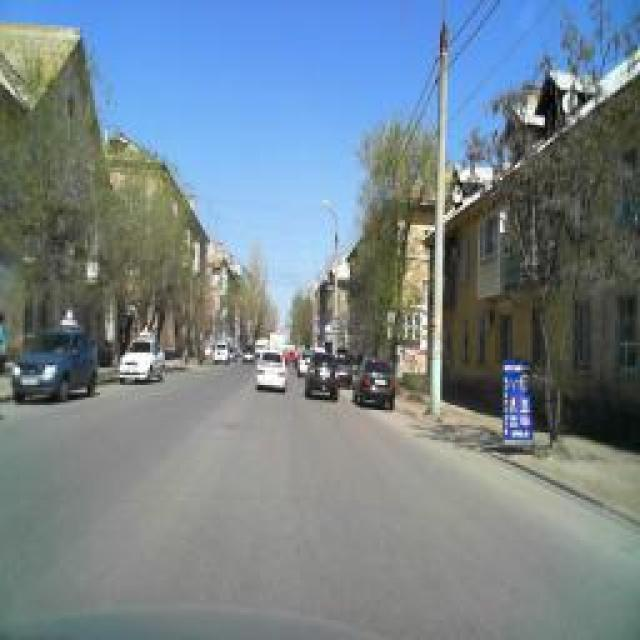sign: (330, 315, 340, 327)
